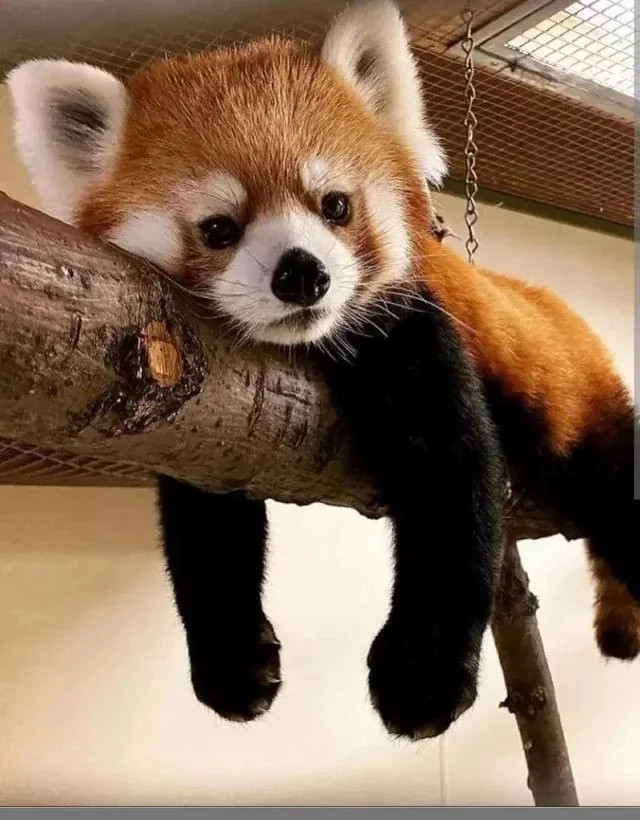Red panda: (18, 0, 440, 344)
